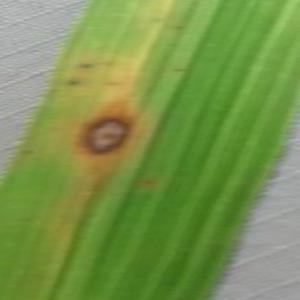Brown_Spot: (69, 101, 141, 171), (136, 175, 160, 192), (167, 62, 191, 78), (17, 144, 38, 160), (145, 11, 167, 26), (14, 213, 35, 226), (74, 58, 94, 71), (170, 20, 188, 34), (64, 75, 81, 89), (98, 58, 116, 71), (103, 78, 121, 88)
